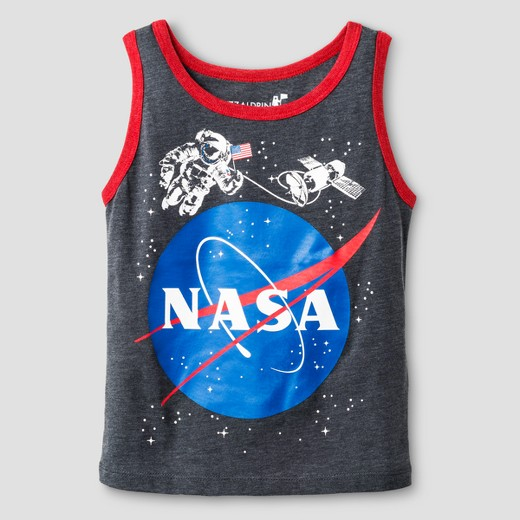NASA: (135, 203, 382, 420)
